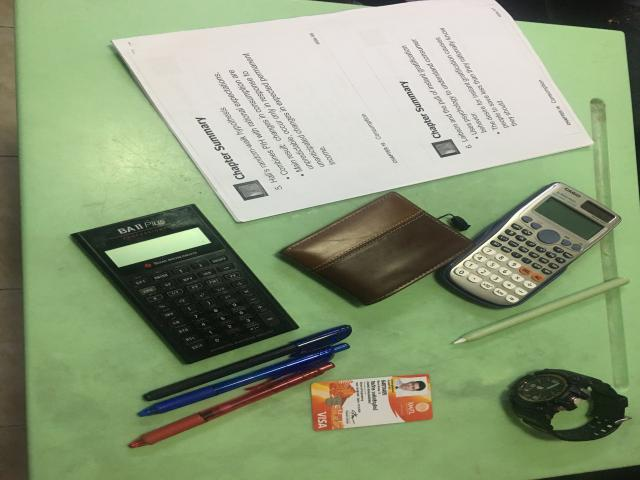Pen: (128, 362, 335, 448), (143, 324, 352, 401), (138, 343, 350, 416)
Wallet: (280, 192, 473, 305)
Watch: (510, 369, 628, 442)
paper: (113, 0, 593, 221)
